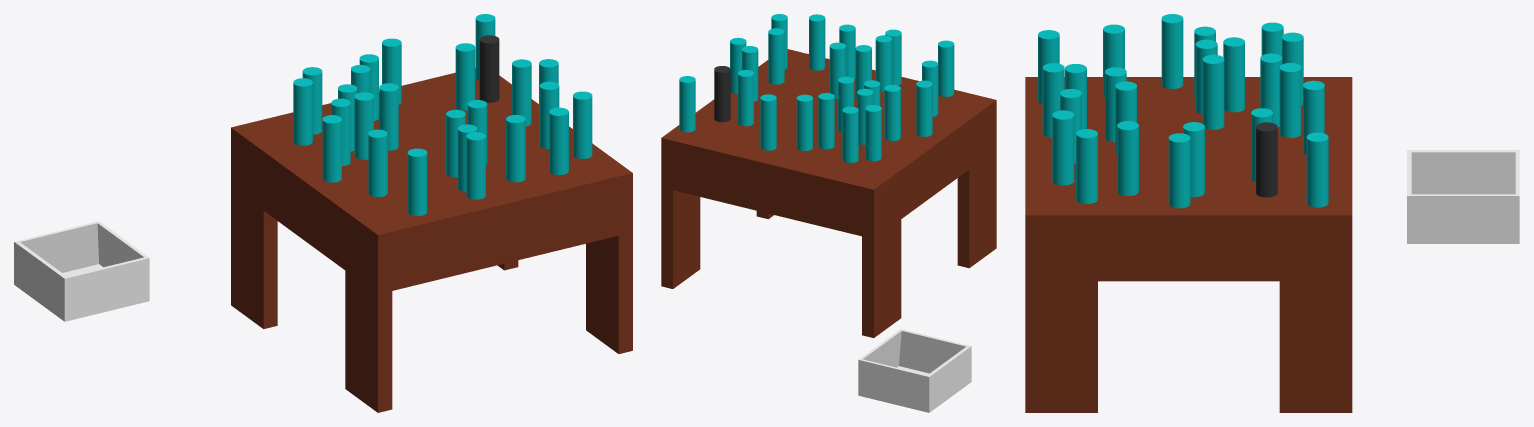
Rendered from can_world_25_cans.dae.
3 views of the same model, side by side, from view 1: azimuth 30°, elevation 25°; view 2: azimuth 150°, elevation 25°; view 3: azimuth 270°, elevation 25° (orthographic). The views are drawn at different scales.
Parts seen in each view (by area): view 1: base (×26), SketchUp (×2); view 2: base (×28), SketchUp (×2); view 3: base (×27), SketchUp (×2).
Part boxes in pixels (box(x1,y1,x2,y2)): base (×26): box(231, 14, 632, 412); SketchUp (×2): box(14, 221, 149, 321); base (×28): box(661, 14, 996, 337); SketchUp (×2): box(858, 329, 971, 412); base (×27): box(1025, 14, 1352, 412); SketchUp (×2): box(1407, 150, 1519, 243).
Bounding box in the file's own units: 1.4 × 1.36 × 0.811.
